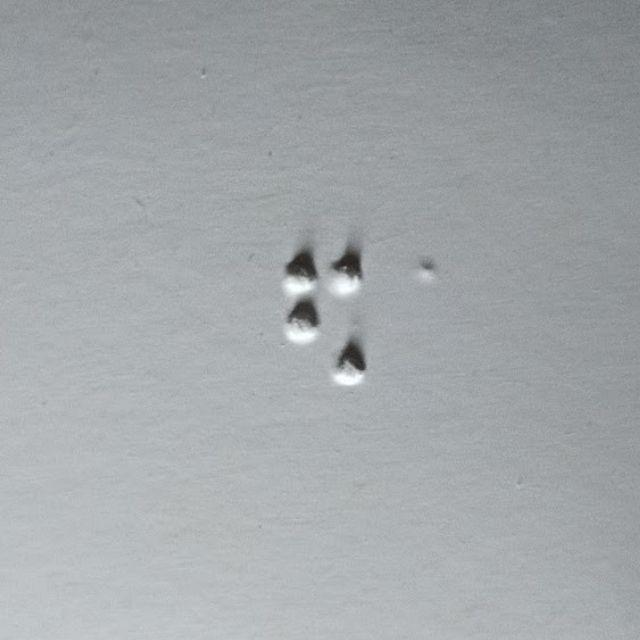nag: (286, 247, 365, 385)
